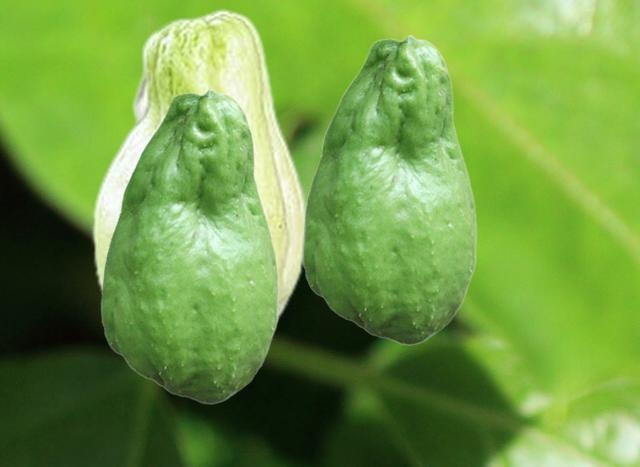sayote: (91, 8, 305, 329), (100, 88, 278, 403), (303, 34, 476, 344)
